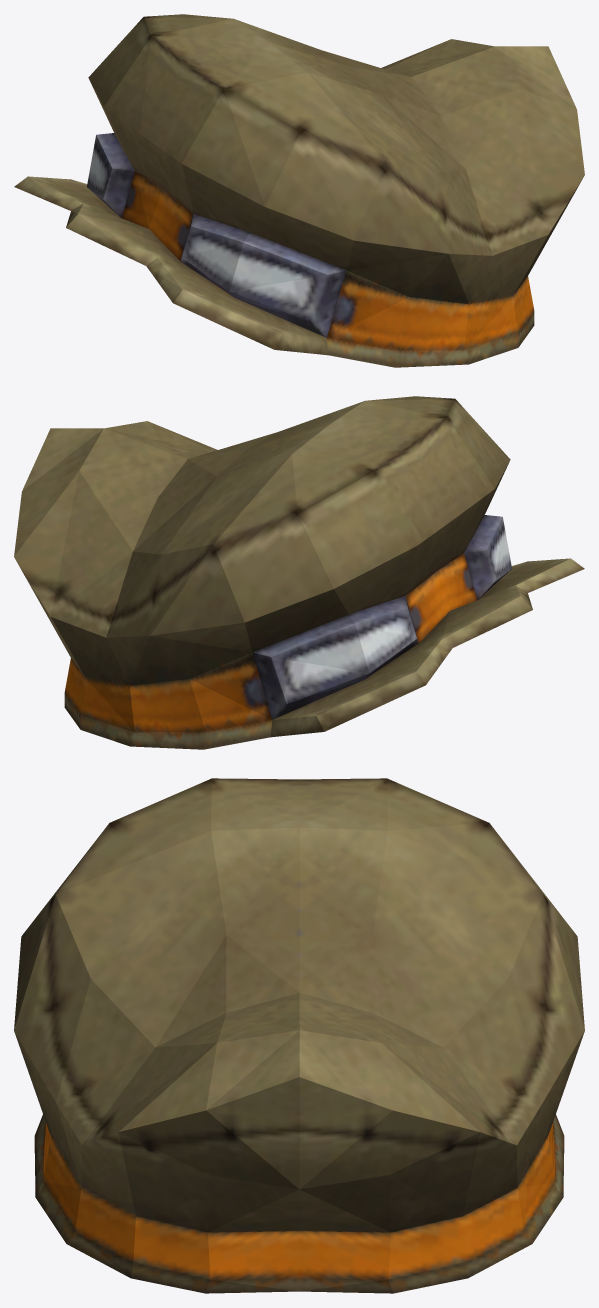
The model's file is Mole_bomberHat.obj.
3 renders of one model, top to bottom at view 1: azimuth 30°, elevation 25°; view 2: azimuth 150°, elevation 25°; view 3: azimuth 270°, elevation 25°, orthographic. The views are drawn at different scales.
Parts seen in each view (by area): view 1: Mole_bomberHat_tri; view 2: Mole_bomberHat_tri; view 3: Mole_bomberHat_tri.
Part boxes in pixels (bbox=[...]): Mole_bomberHat_tri: bbox=[14, 14, 584, 367]; Mole_bomberHat_tri: bbox=[14, 396, 584, 749]; Mole_bomberHat_tri: bbox=[14, 778, 584, 1293].
Size of the model in its own units: 0.3641 by 0.2028 by 0.3092.
1 material, 1 textured.
